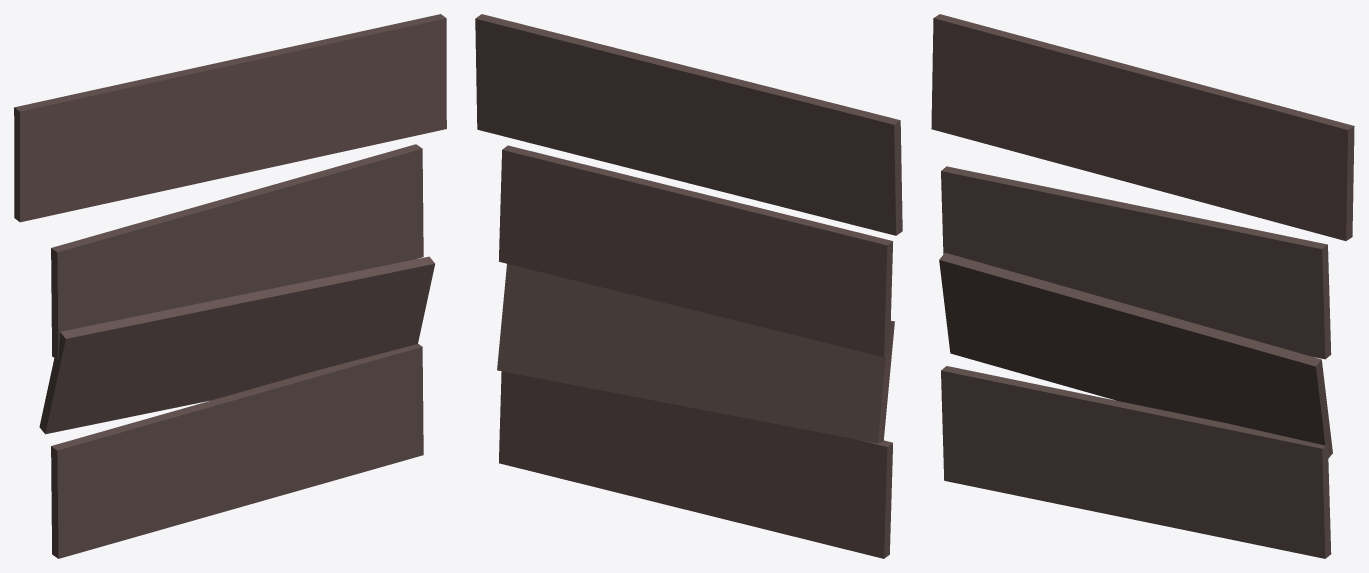
File: Module_Building_Window_Boards2.fbx
The picture shows the model from 3 angles, left to right: view 1: azimuth 30°, elevation 25°; view 2: azimuth 150°, elevation 25°; view 3: azimuth 330°, elevation 25°; orthographic projection.
Visible parts, largest first — view 1: Module_Building_Window_Boards2; view 2: Module_Building_Window_Boards2; view 3: Module_Building_Window_Boards2.
Boxes of the visible parts, <box> form: Module_Building_Window_Boards2: <box>14,14,446,558</box>; Module_Building_Window_Boards2: <box>475,14,902,558</box>; Module_Building_Window_Boards2: <box>931,14,1354,558</box>.
Bounding box in the file's own units: 80.19 × 80.75 × 8.67.
